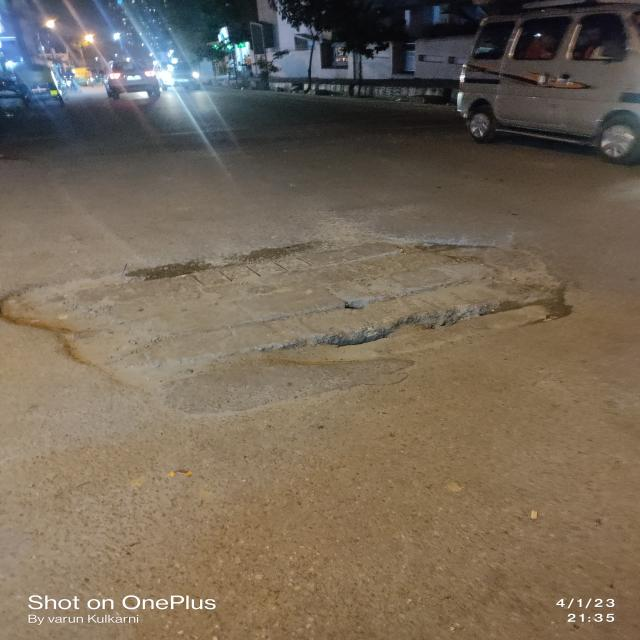potholes: (2, 215, 578, 405)
